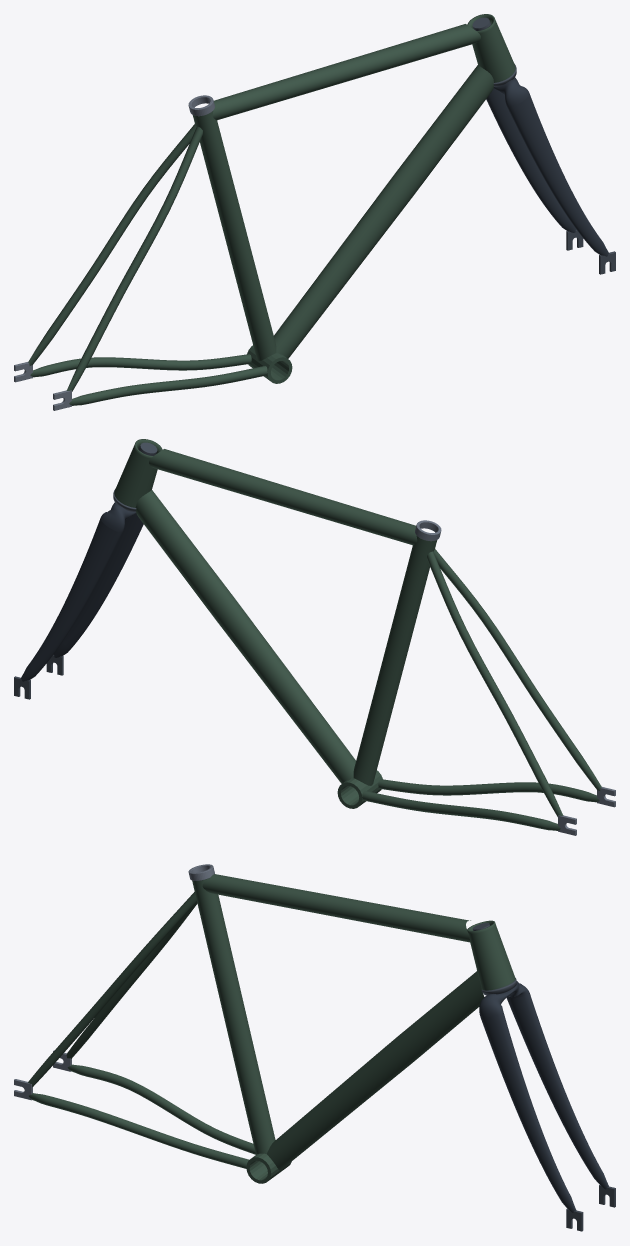
Rendered from skream-ranger-xs.glb.
The picture shows the model from 3 angles, top to bottom: view 1: azimuth 30°, elevation 25°; view 2: azimuth 150°, elevation 25°; view 3: azimuth 330°, elevation 25°; orthographic projection.
Parts seen in each view (by area): view 1: paint_down, paint_top, paint_seat, fork_blade_1, paint_seatstay_1, paint_seatstay_-1, fork_blade_-1, paint_chainstay_-1, paint_chainstay_1, paint_head, paint_bottom_bracket, fork_crown; view 2: paint_down, paint_top, paint_seat, fork_blade_-1, paint_seatstay_-1, paint_seatstay_1, fork_blade_1, paint_chainstay_1, paint_chainstay_-1, paint_head, paint_bottom_bracket, fork_crown; view 3: paint_down, paint_seat, paint_top, fork_blade_1, fork_blade_-1, paint_chainstay_1, paint_seatstay_1, paint_head, paint_chainstay_-1, paint_seatstay_-1, fork_crown, paint_bottom_bracket.
Boxes of the visible parts, <box> form: paint_down: <box>274,65,493,358</box>; paint_top: <box>212,24,480,120</box>; paint_seat: <box>192,111,276,360</box>; fork_blade_1: <box>507,94,609,256</box>; paint_seatstay_1: <box>66,126,202,391</box>; paint_seatstay_-1: <box>28,124,196,365</box>; fork_blade_-1: <box>486,88,576,232</box>; paint_chainstay_-1: <box>30,354,251,377</box>; paint_chainstay_1: <box>69,366,267,405</box>; paint_head: <box>467,14,515,82</box>; paint_bottom_bracket: <box>247,345,292,383</box>; fork_crown: <box>493,77,529,107</box>; paint_down: <box>136,490,355,783</box>; paint_top: <box>149,449,417,545</box>; paint_seat: <box>353,536,437,785</box>; fork_blade_-1: <box>20,519,122,681</box>; paint_seatstay_-1: <box>427,551,563,816</box>; paint_seatstay_1: <box>433,549,601,790</box>; fork_blade_1: <box>53,513,143,657</box>; paint_chainstay_1: <box>378,779,599,802</box>; paint_chainstay_-1: <box>362,791,560,830</box>; paint_head: <box>114,439,162,507</box>; paint_bottom_bracket: <box>337,770,382,808</box>; fork_crown: <box>100,502,136,532</box>; paint_down: <box>267,971,484,1170</box>; paint_seat: <box>192,879,275,1154</box>; paint_top: <box>202,874,470,942</box>; fork_blade_1: <box>481,1012,576,1212</box>; fork_blade_-1: <box>507,993,609,1189</box>; paint_chainstay_1: <box>29,1093,249,1168</box>; paint_seatstay_1: <box>28,892,196,1087</box>; paint_head: <box>467,920,515,990</box>; paint_chainstay_-1: <box>67,1064,255,1154</box>; paint_seatstay_-1: <box>66,902,197,1058</box>; fork_crown: <box>479,981,529,1017</box>; paint_bottom_bracket: <box>246,1153,291,1183</box>.
Bounding box in the file's own units: 1.05 × 0.5406 × 0.1438.
